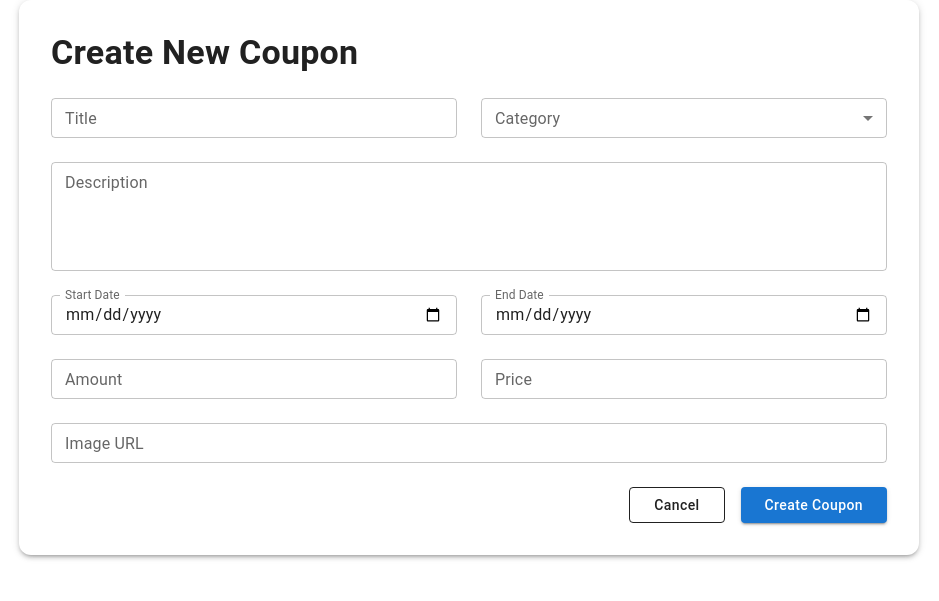
CouponForm › Category Field Validation › should show error when category is not selected on blur
Step 1. Click the dropdown named "category" → (684, 118), box 481,98 -> 887,138
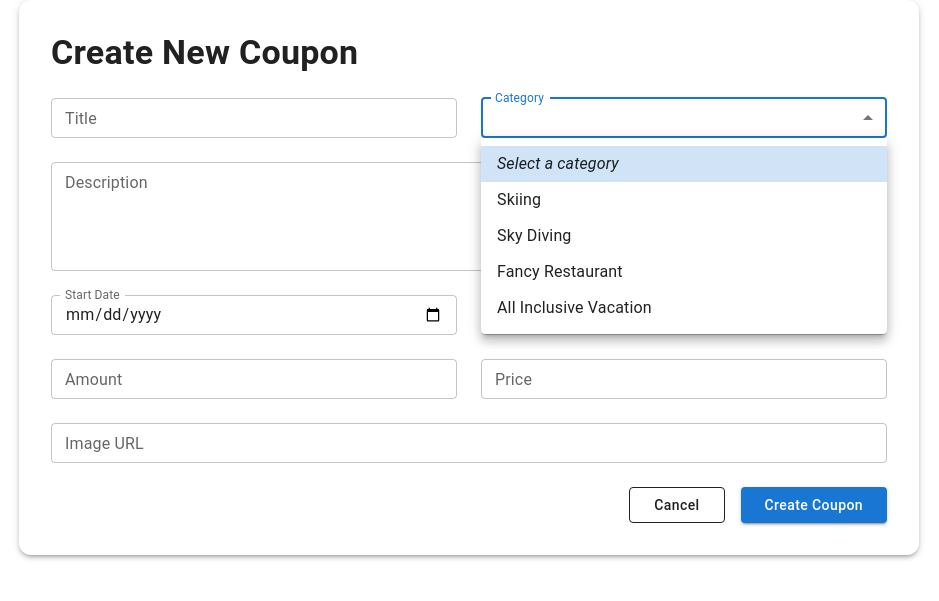
Step 2. Press Escape
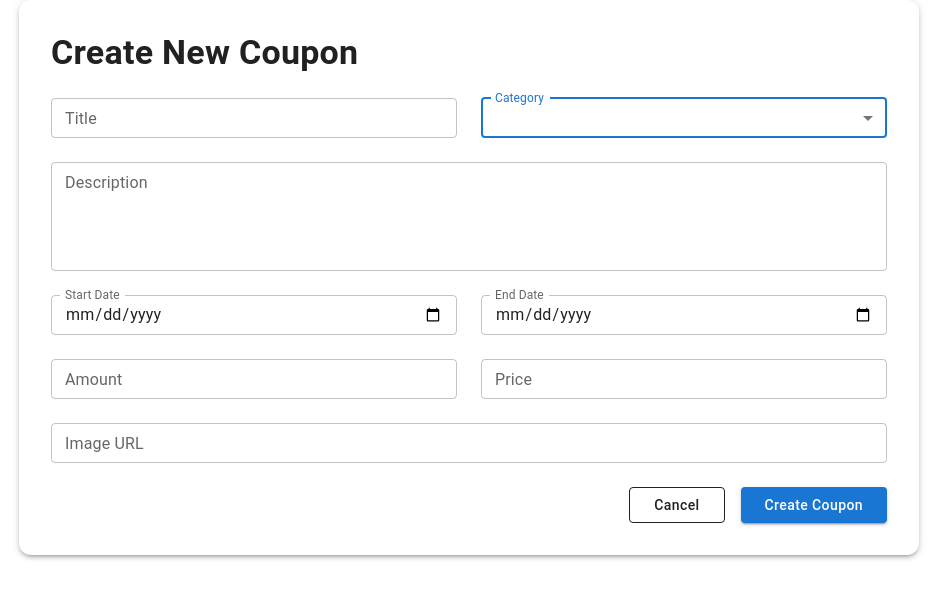
Step 3. Press Tab
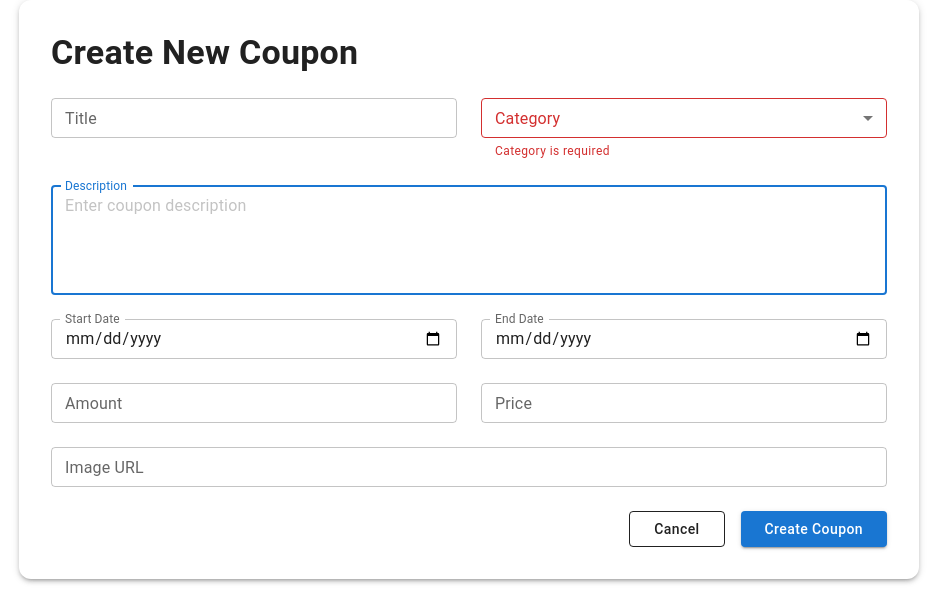
Expected: the text "Category is required" is shown, 495,144 -> 610,158
